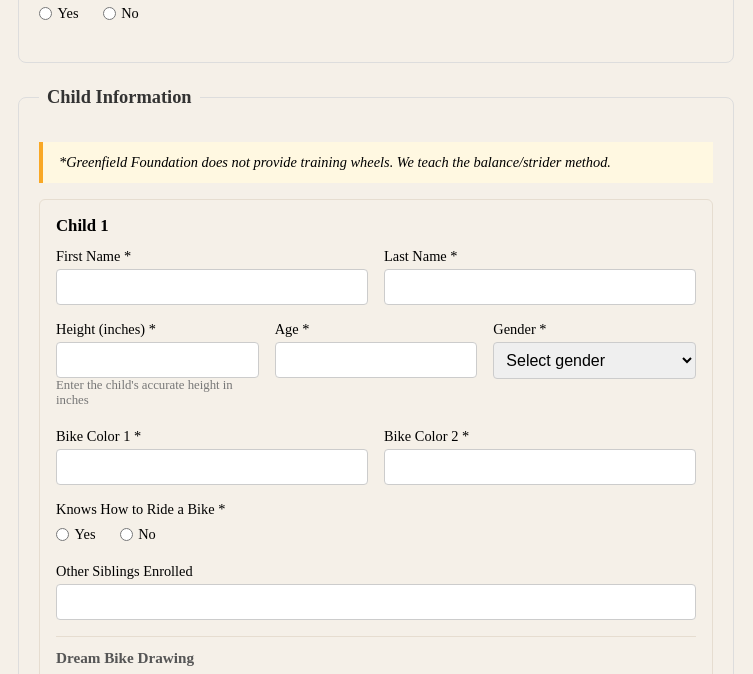
ApplyView › height validation › shows error when height is non-numeric
(page scrolled)
In the field with id "child-0-height": point(157, 360) [56,342,259,378], type "abc"
(page scrolled)
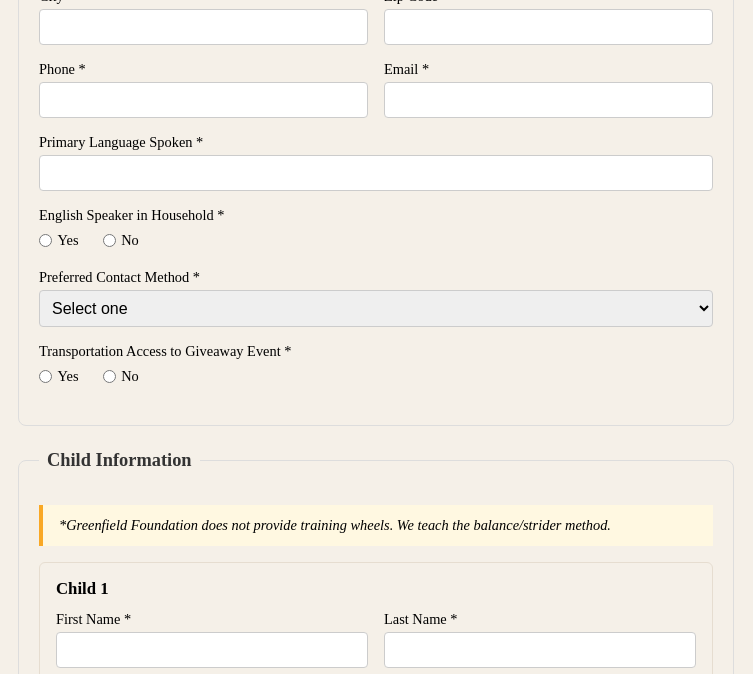
Submit the form
(page scrolled)
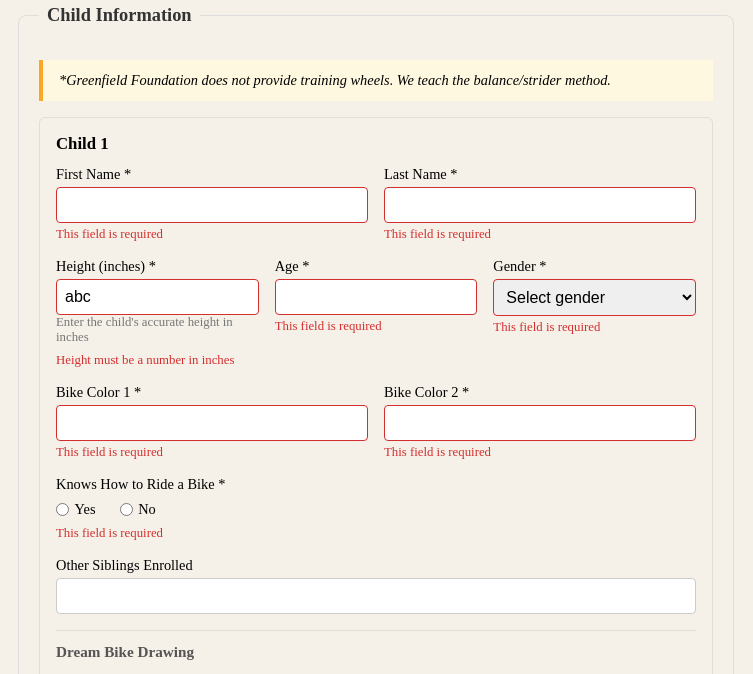
Check: the message "Height must be a number in inches" is shown, box [56,353,259,368]
